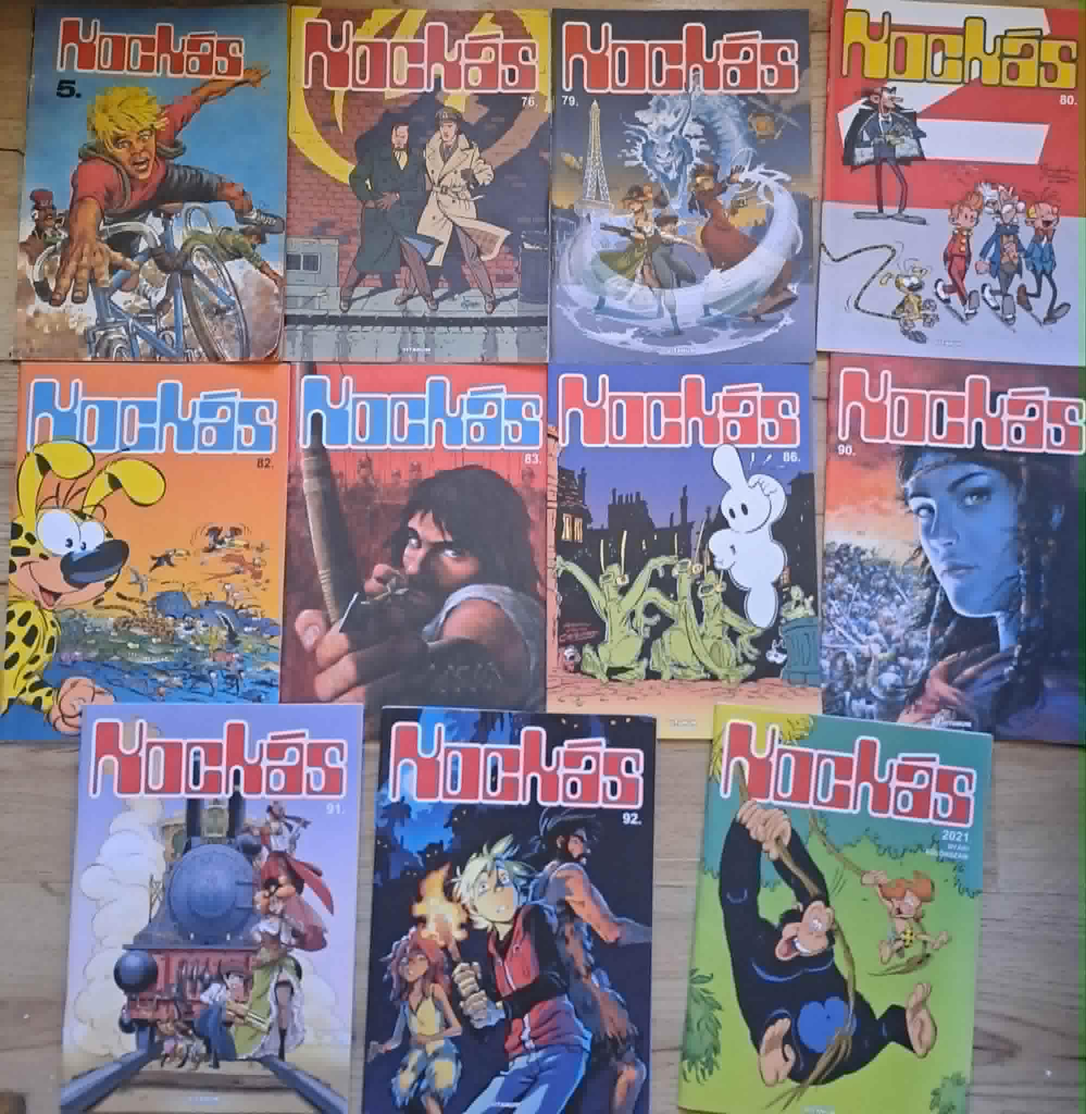comic: (675, 703, 1003, 1114), (58, 698, 364, 1114), (363, 706, 655, 1114), (0, 353, 294, 753), (819, 355, 1086, 744), (548, 364, 820, 739), (282, 363, 548, 740), (15, 2, 289, 363), (816, 0, 1086, 365), (284, 4, 554, 367), (551, 8, 816, 363)
